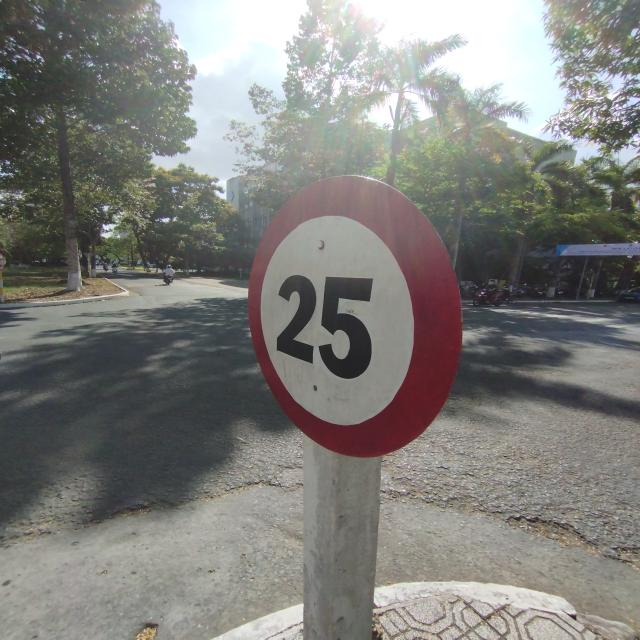Tre_Em: (246, 173, 465, 458)
